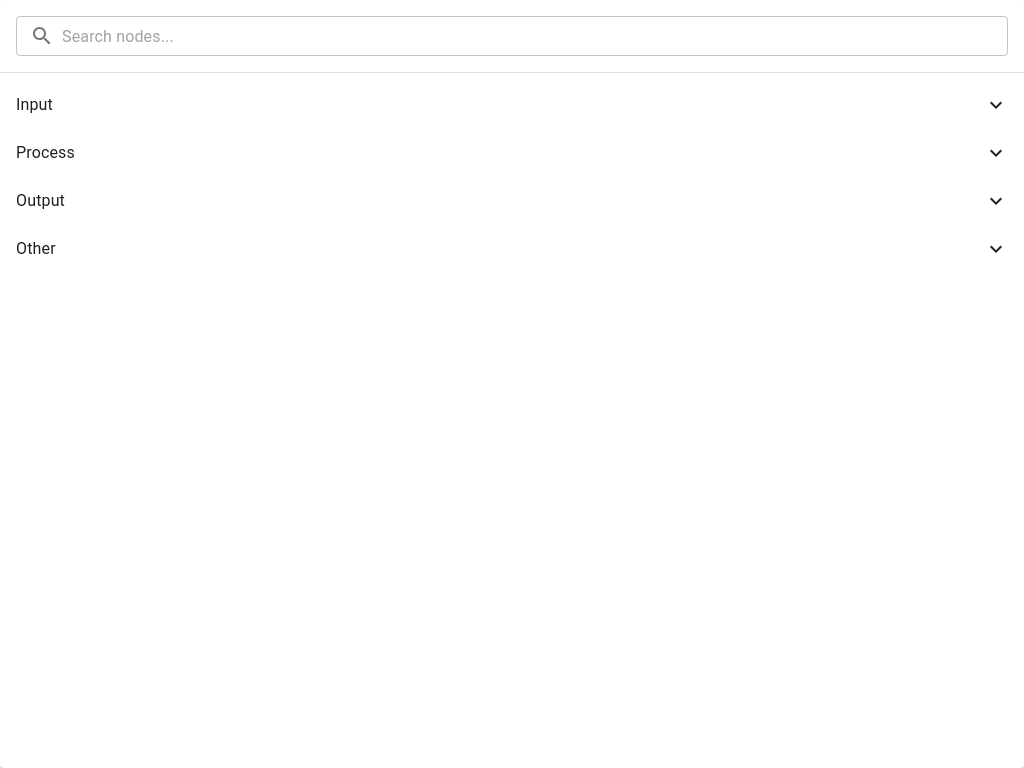
Scenario: Sidebar Component › filters nodes based on search input
Type "number" into the field with placeholder "Search nodes..." at {"x": 535, "y": 36}, box [62,16,1008,56]
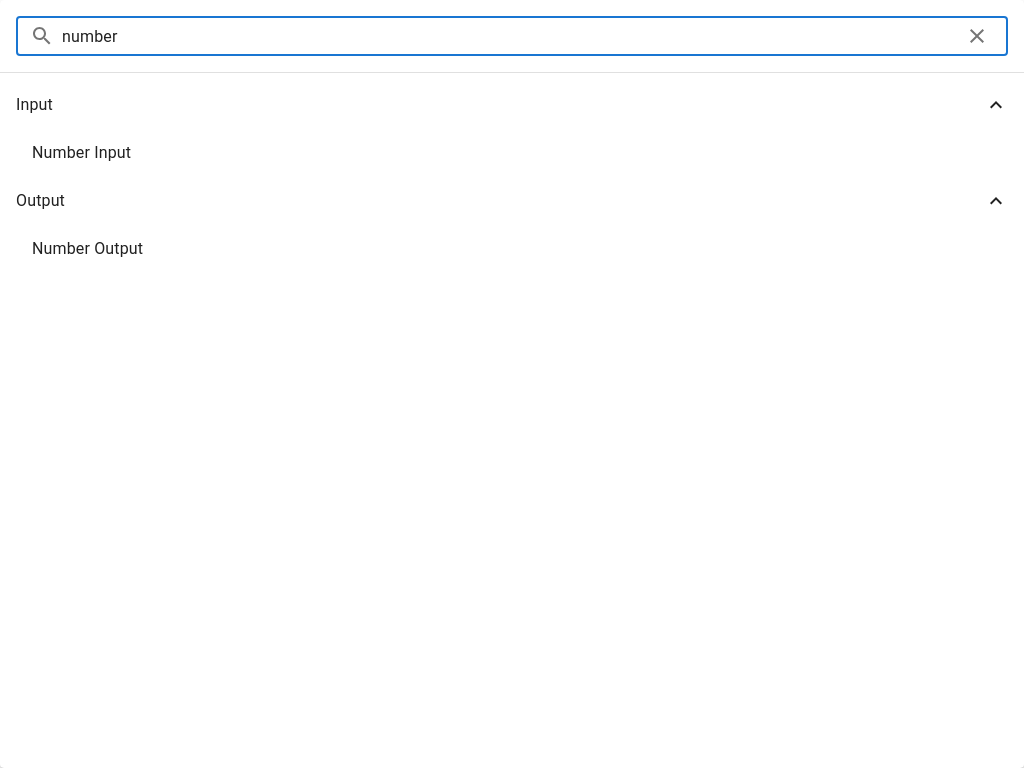
Expected: the text "Number Input" is shown, [32,143,131,162]
